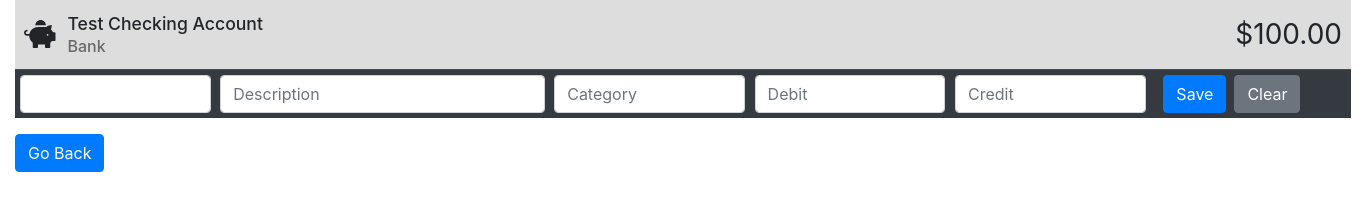
PagesAccountsShow › Add a transaction › Requires that debit is a number
The width and height of the screenshot is (1366, 212).
Type "BAD" into the field with placeholder "Debit" at {"x": 850, "y": 94}, box [755,75,945,113]
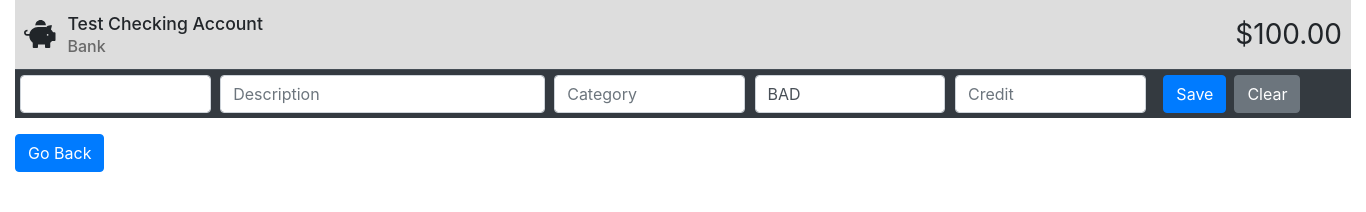
Click the button "Save" at {"x": 1195, "y": 94}, box [1163,75,1226,113]
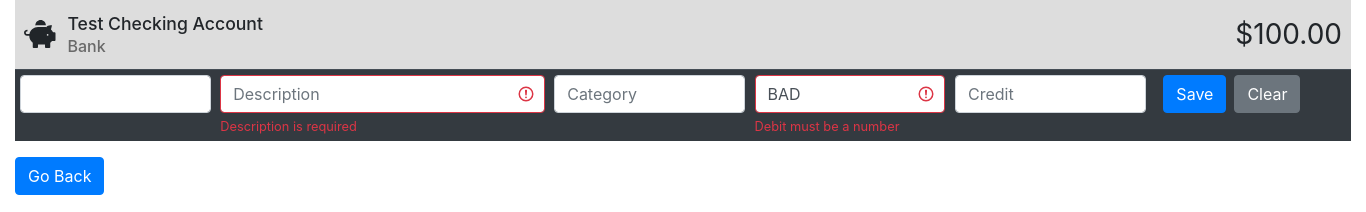
Now the text with test id "debit-error" reads "Debit must be a number", box [755,119,900,134]
